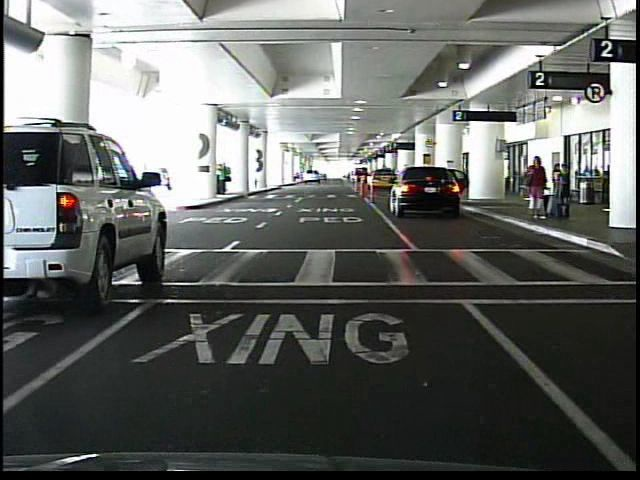person: (521, 155, 548, 219), (554, 164, 573, 221), (218, 162, 232, 197), (553, 165, 564, 200)
